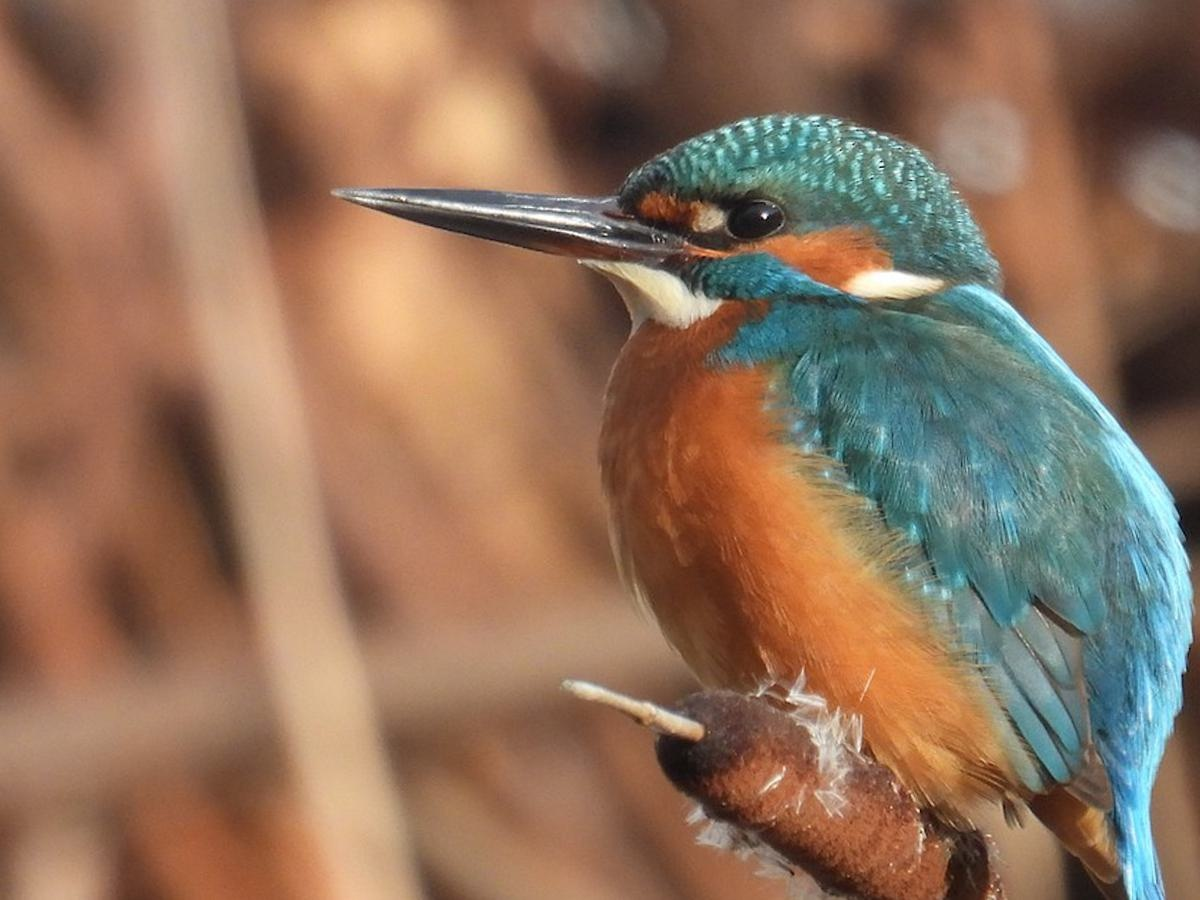kingfisher: (309, 99, 1200, 858)
